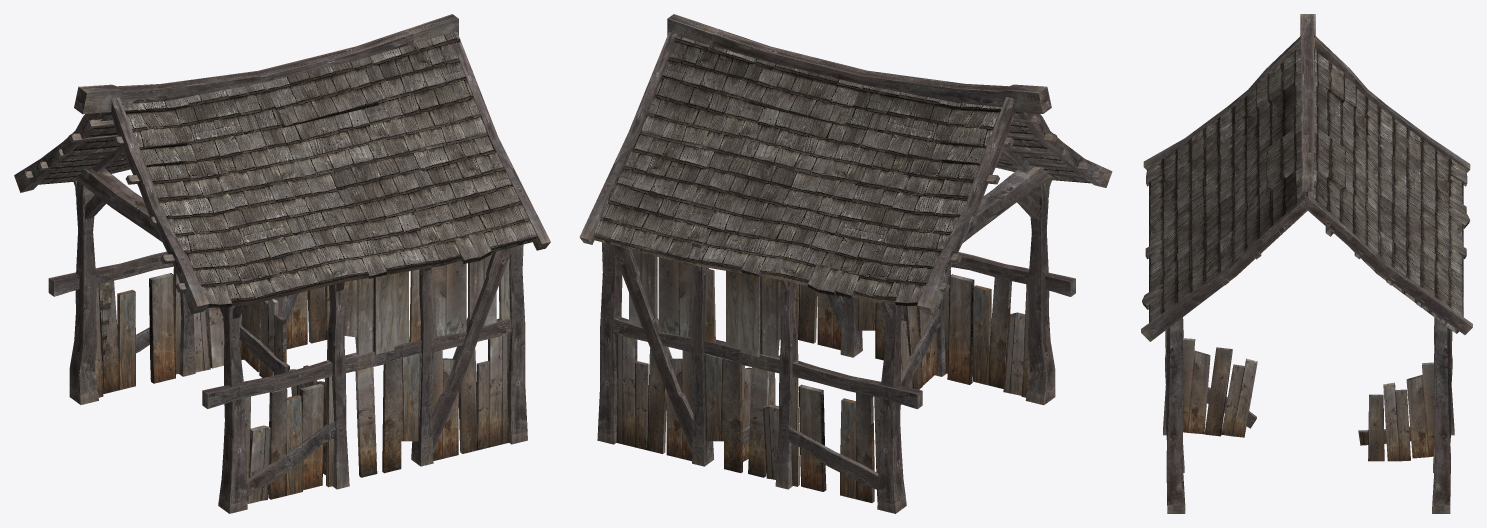
Rendered from LookOut02.FBX.
The picture shows the model from 3 angles, left to right: view 1: azimuth 30°, elevation 25°; view 2: azimuth 150°, elevation 25°; view 3: azimuth 270°, elevation 25°; orthographic projection. The views are drawn at different scales.
Visible parts, largest first — view 1: LV_TurtleLake_Lakevilage_LookOut02_SM_KSR; view 2: LV_TurtleLake_Lakevilage_LookOut02_SM_KSR; view 3: LV_TurtleLake_Lakevilage_LookOut02_SM_KSR.
Boxes of the visible parts, bbox=[...] form: LV_TurtleLake_Lakevilage_LookOut02_SM_KSR: bbox=[14, 14, 550, 513]; LV_TurtleLake_Lakevilage_LookOut02_SM_KSR: bbox=[579, 14, 1112, 513]; LV_TurtleLake_Lakevilage_LookOut02_SM_KSR: bbox=[1141, 14, 1472, 513].
Size of the model in its own units: 129 by 126 by 110.
